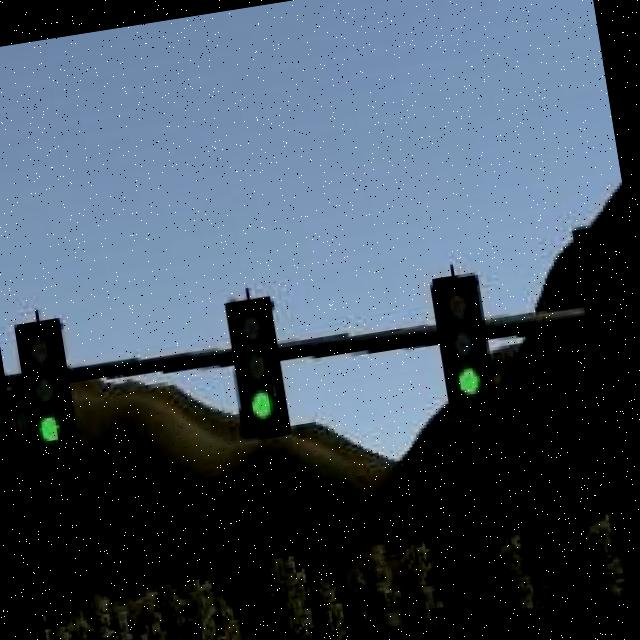Zielone swiatlo: (426, 275, 499, 418), (225, 296, 292, 444), (17, 318, 81, 460)
